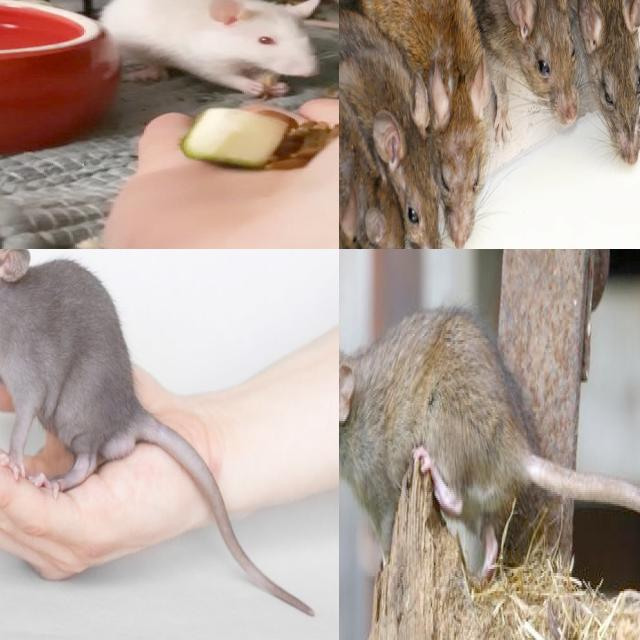rat: (339, 285, 625, 607), (0, 249, 151, 468), (99, 0, 323, 96), (449, 0, 581, 120)
